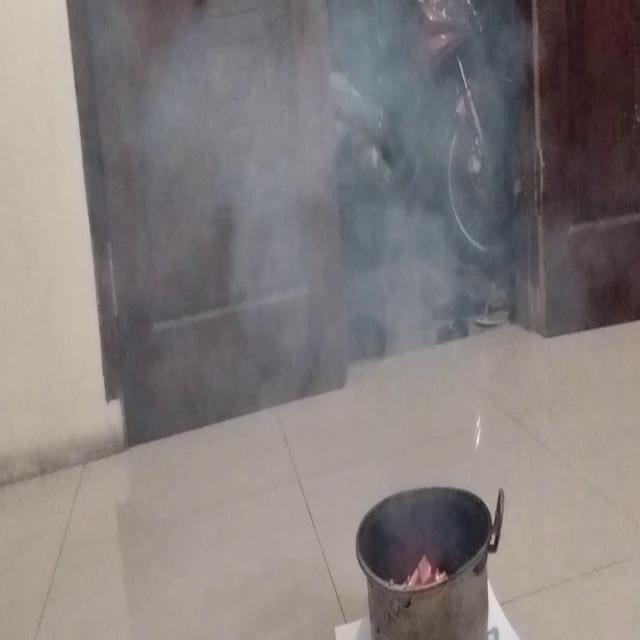fire: (117, 1, 530, 354)
